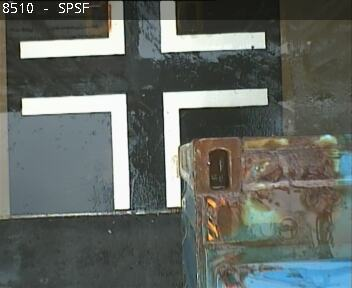groundmarker_1: (22, 88, 266, 208), (21, 1, 264, 59)
